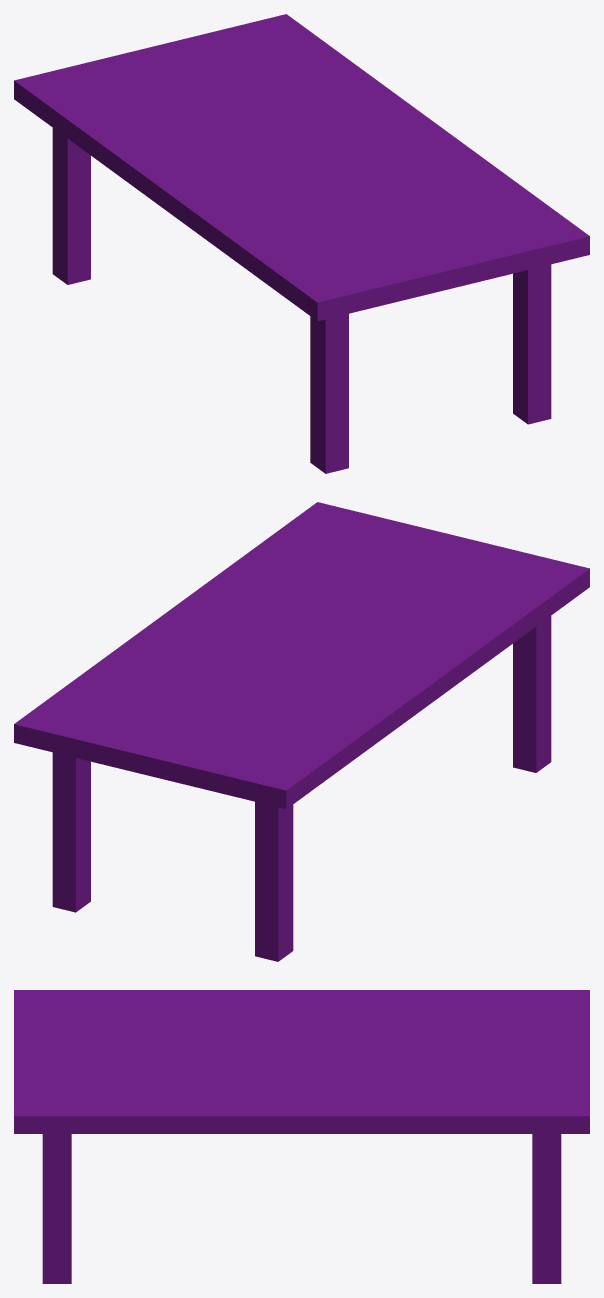
File: Human_Table.fbx
3 views of the same model, one above another, from view 1: azimuth 30°, elevation 25°; view 2: azimuth 150°, elevation 25°; view 3: azimuth 270°, elevation 25° (orthographic). The views are drawn at different scales.
Visible parts, largest first — view 1: HumanTable; view 2: HumanTable; view 3: HumanTable.
Boxes of the visible parts, x1,y1,x2,y2 form: HumanTable: (14, 14, 589, 473); HumanTable: (14, 502, 589, 961); HumanTable: (14, 990, 589, 1283).
Bounding box in the file's own units: 137 × 90.17 × 264.
